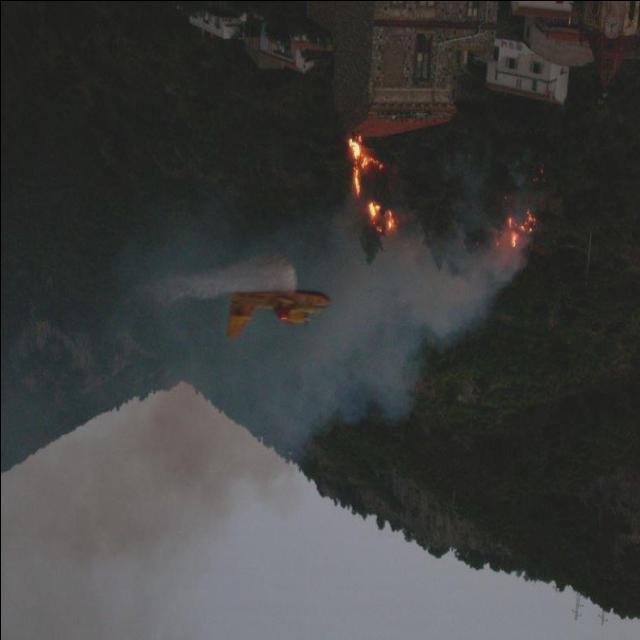Fire: (336, 130, 386, 194), (494, 204, 550, 252), (354, 197, 408, 236)
